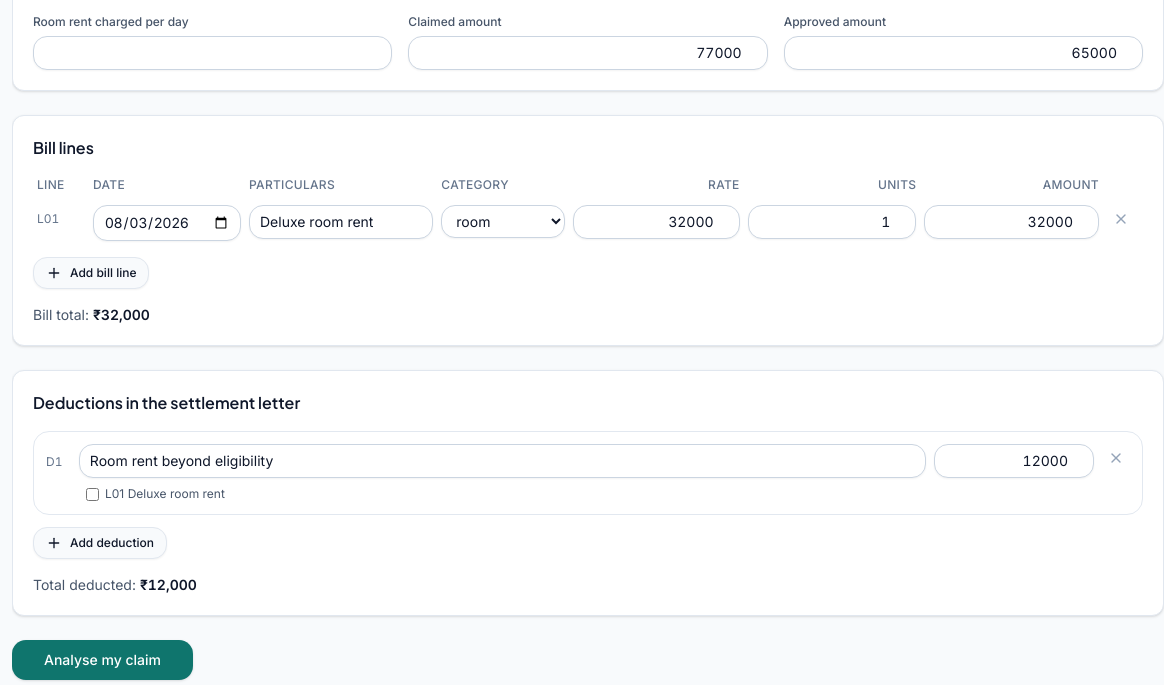
Scenario: CaseConfirmForm › keeps Analyse disabled for a deduction of zero, a deduction above the bill, or no deduction
(page scrolled)
Expected: the button "Analyse my claim" is enabled, x1=12 y1=640 x2=193 y2=680
Replace the text in the number field named "Deduction 1 amount" with "0" at (1014, 461), box x1=934 y1=444 x2=1094 y2=478
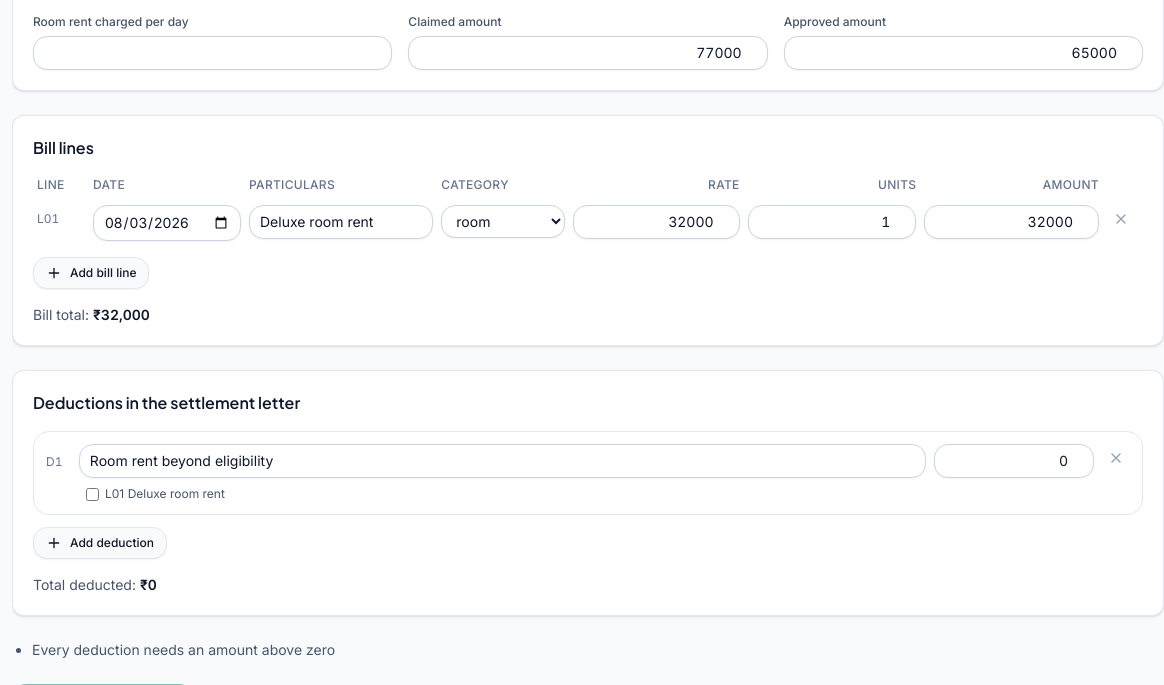
Replace the text in the number field named "Deduction 1 amount" with "32000.01" at (1014, 461), box x1=934 y1=444 x2=1094 y2=478
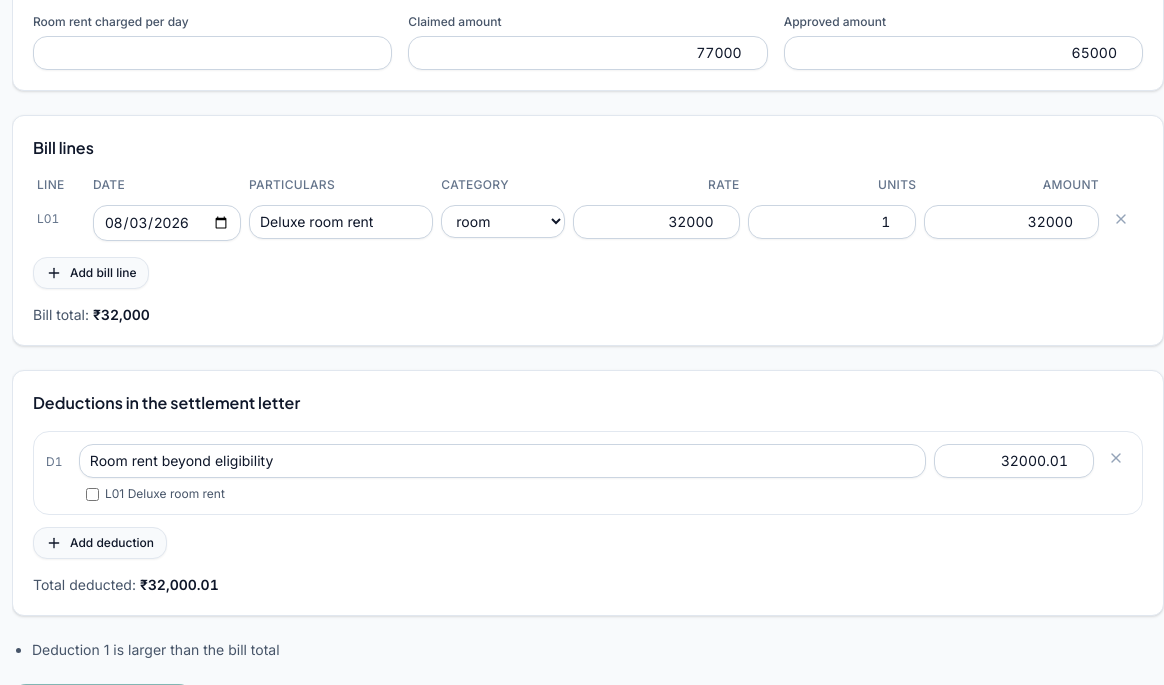
Expected: the list item "Deduction 1 is larger than the bill total" is shown, x1=32 y1=641 x2=280 y2=658
Replace the text in the number field named "Deduction 1 amount" with "12000" at (1014, 461), box x1=934 y1=444 x2=1094 y2=478
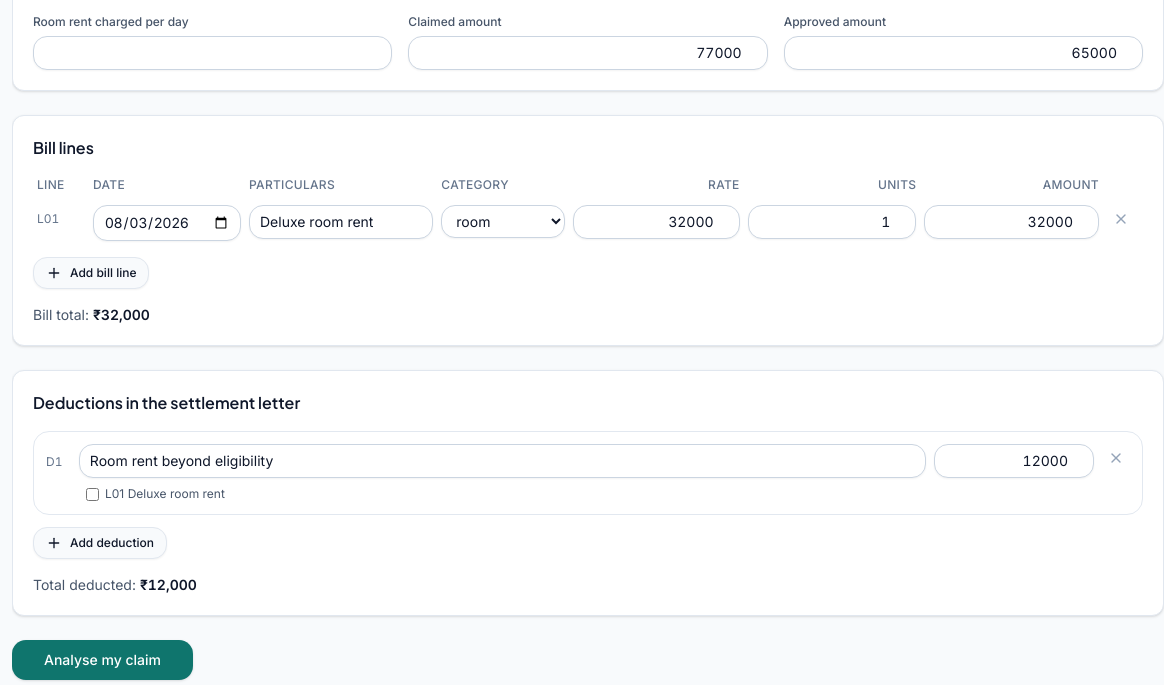
Expected: the button "Analyse my claim" is enabled, x1=12 y1=640 x2=193 y2=680
Click the button named "Remove deduction 1" at (1116, 458), box x1=1102 y1=444 x2=1130 y2=472
(page scrolled)
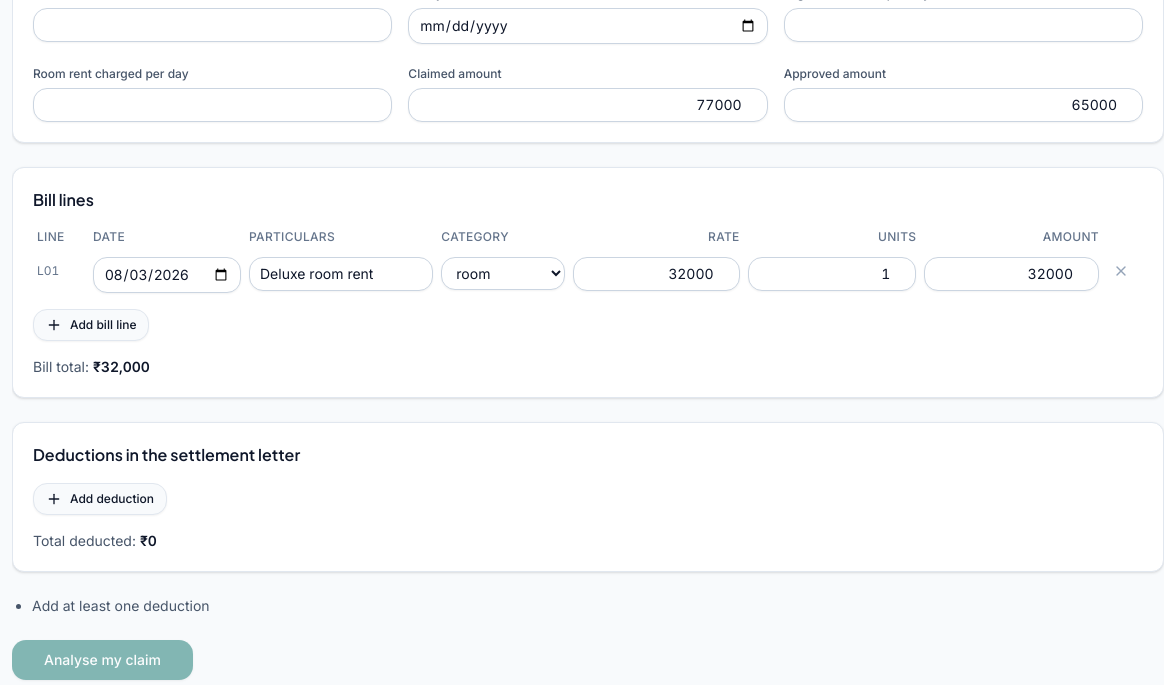
Expected: the button "Analyse my claim" is disabled, x1=12 y1=640 x2=193 y2=680
